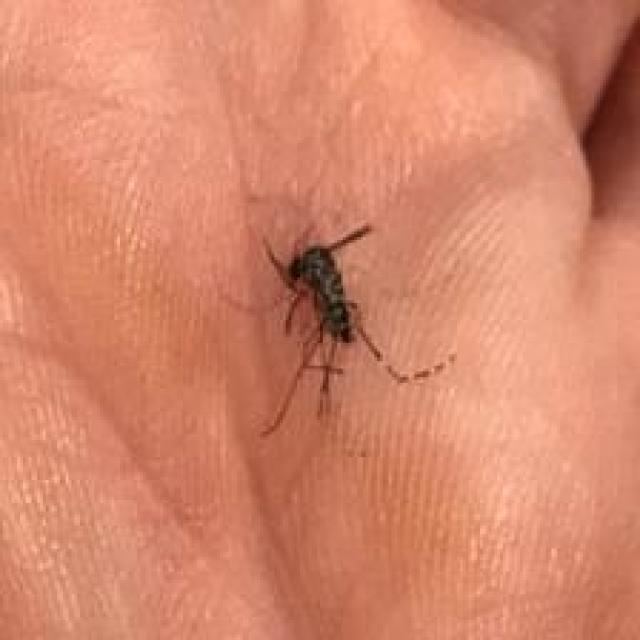Aedes albopictus: (255, 218, 456, 438)
